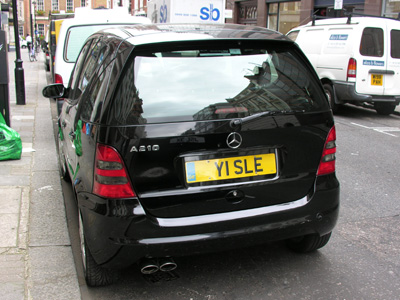licencePlate: (183, 152, 279, 182)
